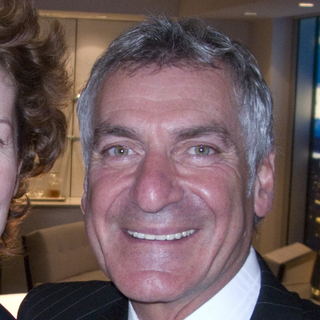eye: (96, 140, 141, 164), (181, 140, 227, 163)
